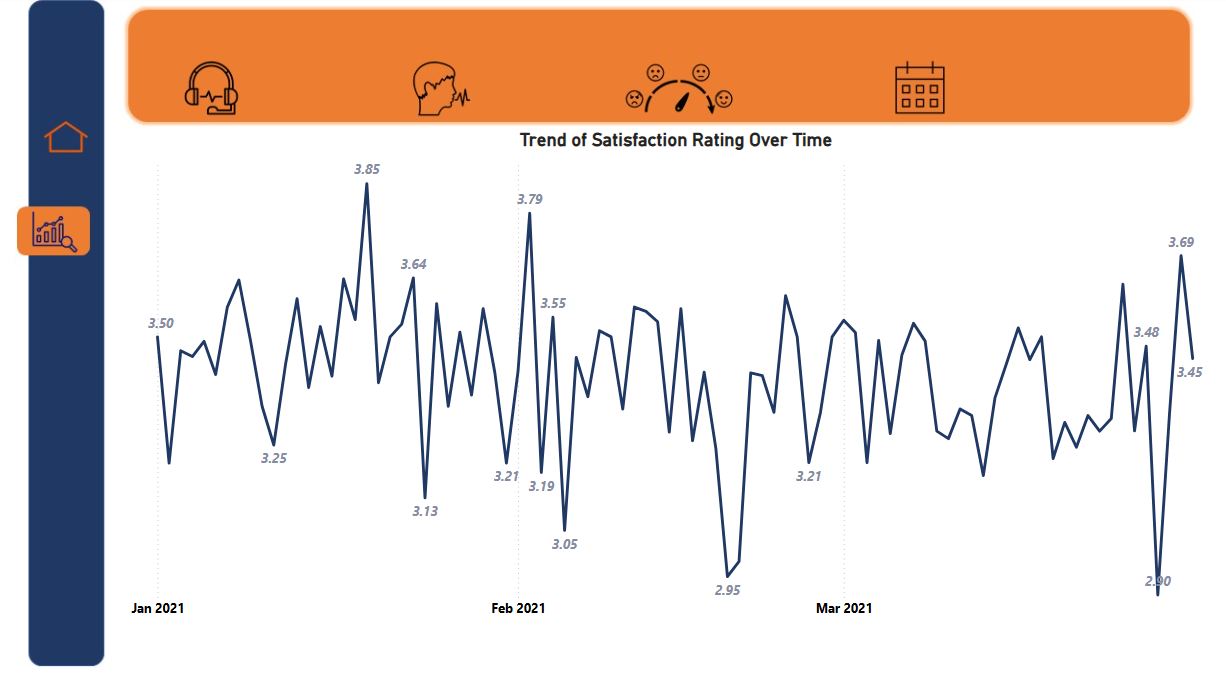

The dashboard page shown, as its layout file describes it:
{"tool":"powerbi","page":{"name":"Dashboard3","canvas":[1280,720],"ordinal":3},"visuals":[{"type":"lineChart","title":"Trend of Satisfaction Rating Over Time","fields":{"Category":["Sheet1.Date"],"Y":["Avg(Sheet1.Satisfaction rating)"]},"box":[132.9,140.7,1147.2,518.9],"z":2000}]}

Visuals, with their boxes on the page's 1280x720 design canvas (x1, y1, x2, y2). These are canvas units, not pixel positions in the 1226x678 screenshot, which may show the page scaled, cropped or inside an application window:
"Trend of Satisfaction Rating Over Time" lineChart: x1=133 y1=141 x2=1280 y2=660
